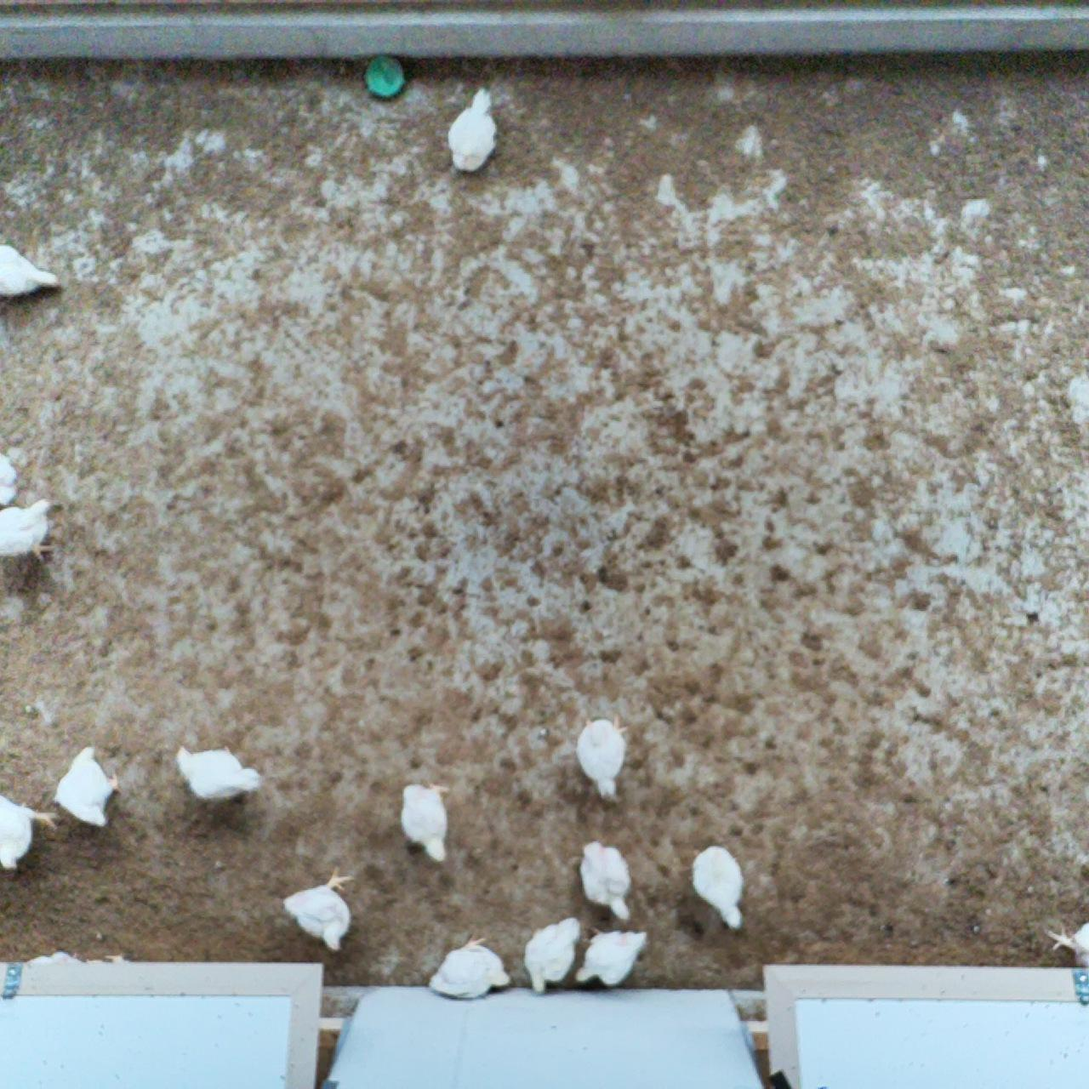chicken: (276, 868, 356, 950), (422, 934, 510, 1005), (171, 739, 261, 805), (54, 744, 121, 831), (572, 710, 631, 807), (518, 914, 584, 995), (396, 777, 455, 867), (689, 842, 749, 930), (573, 922, 649, 991), (0, 788, 58, 873), (579, 835, 634, 921), (447, 87, 501, 172), (0, 233, 58, 300), (0, 494, 54, 561), (1042, 917, 1089, 992), (0, 444, 23, 511)
